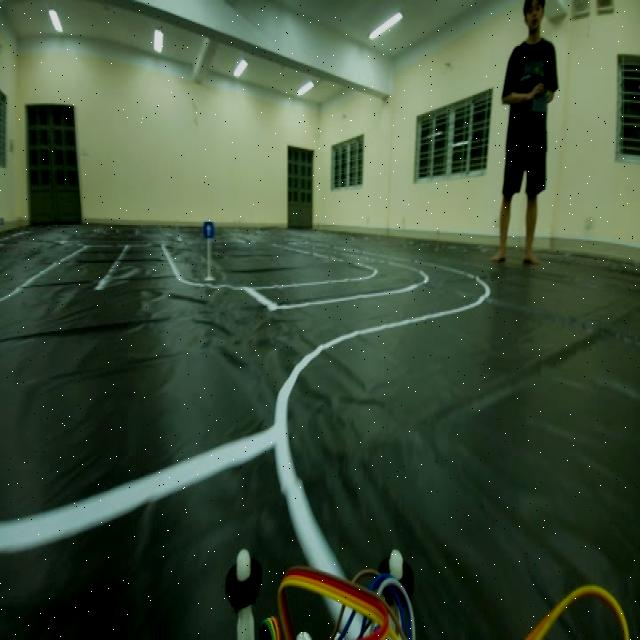onewayroad: (200, 220, 214, 242)
